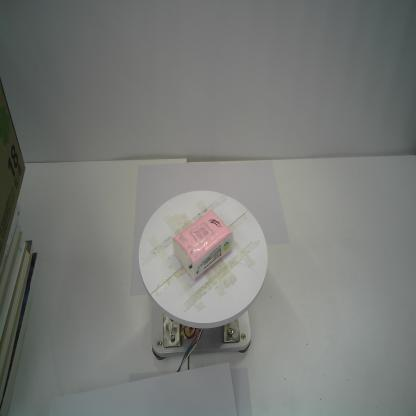Tissue: (170, 207, 234, 284)
